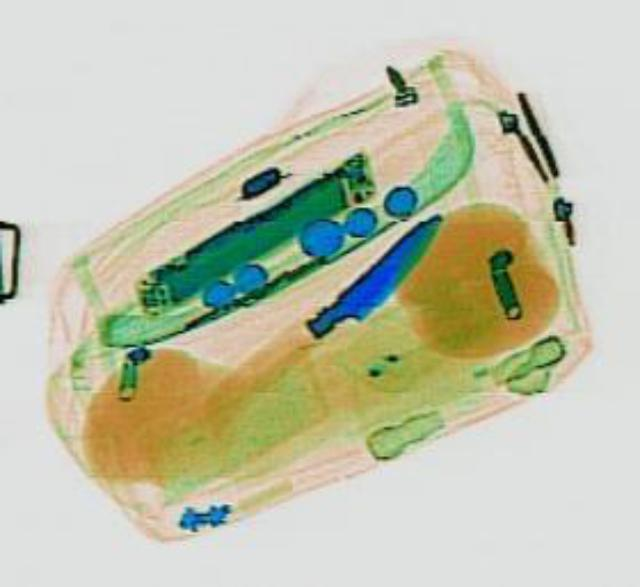Knife: (294, 203, 460, 346)
